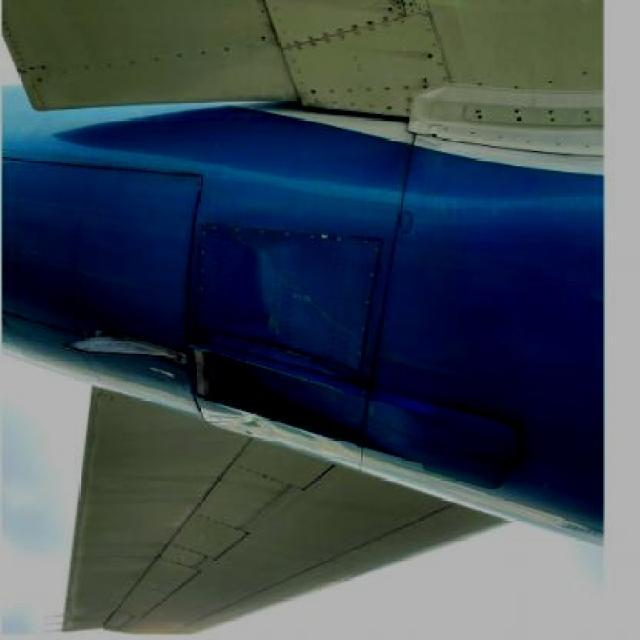dent: (235, 243, 294, 332)
